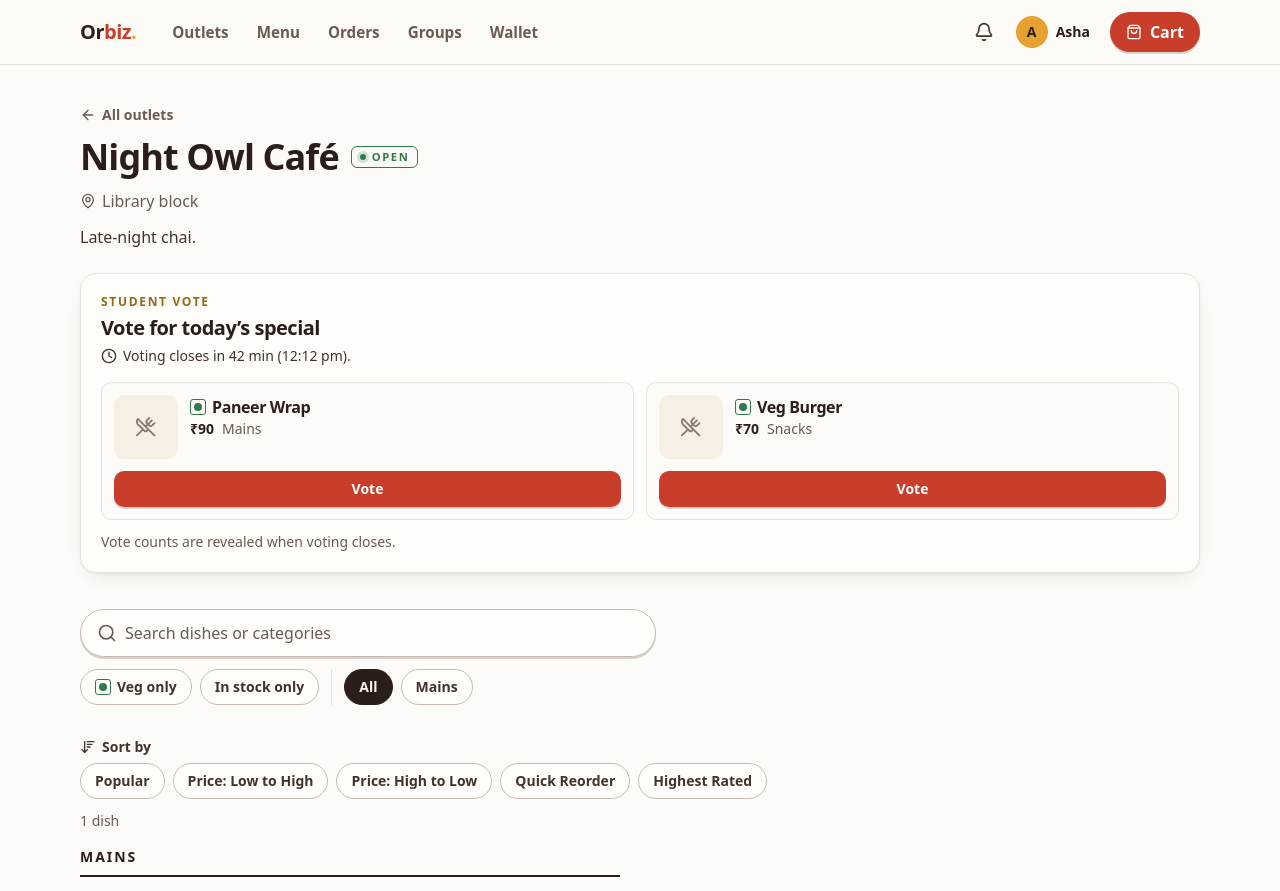
Test: voting for Today’s Special › explains a refused vote and re-reads the poll
Click the button with aria-label "Vote for Paneer Wrap": (368, 489) 114,471 -> 621,507
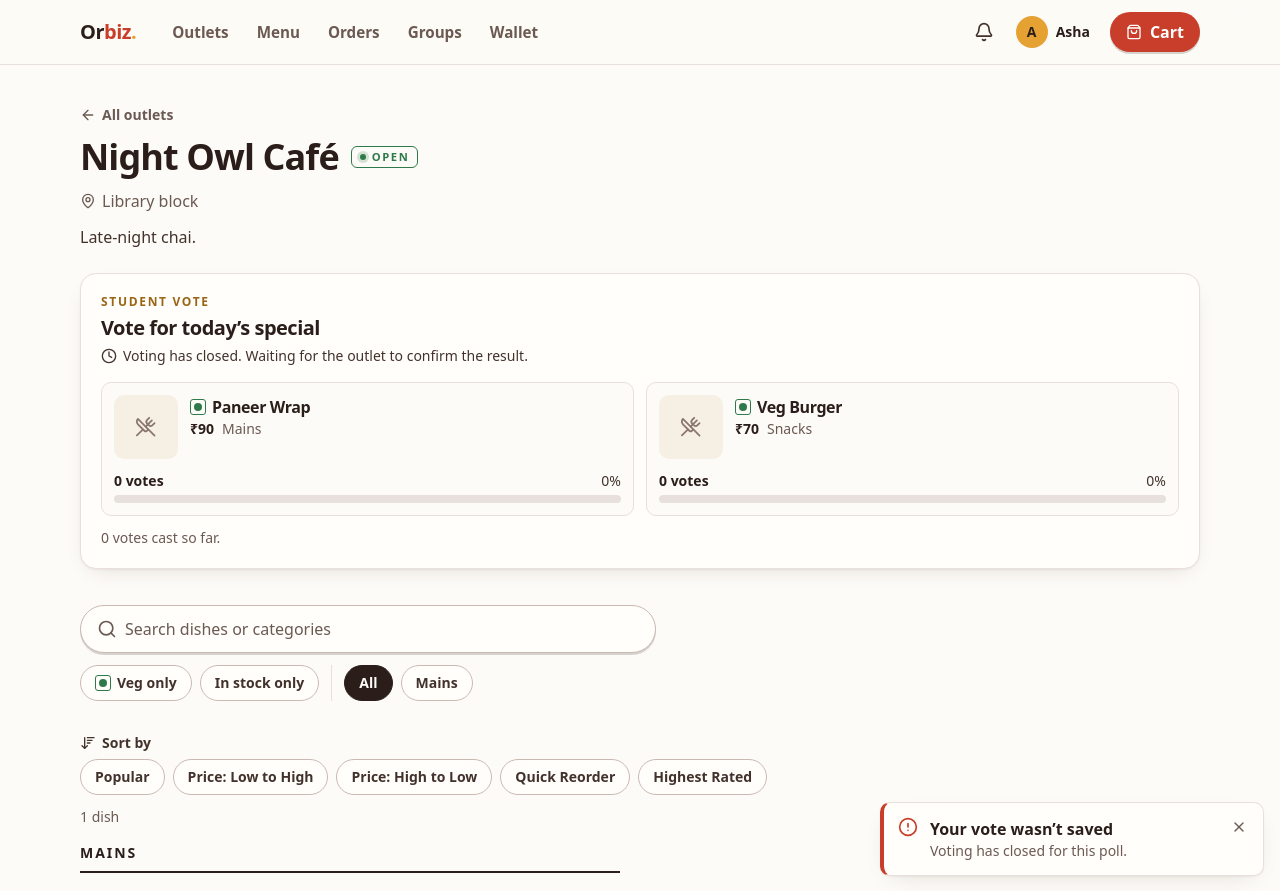
Expected: the message shows "Your vote wasn’t saved", 930,818 -> 1113,840
Expected: the message shows "Voting has closed for this poll.", 930,841 -> 1127,860
Expected: the text "Voting has closed. Waiting for the outlet to confirm the result." is shown, 101,346 -> 528,365
